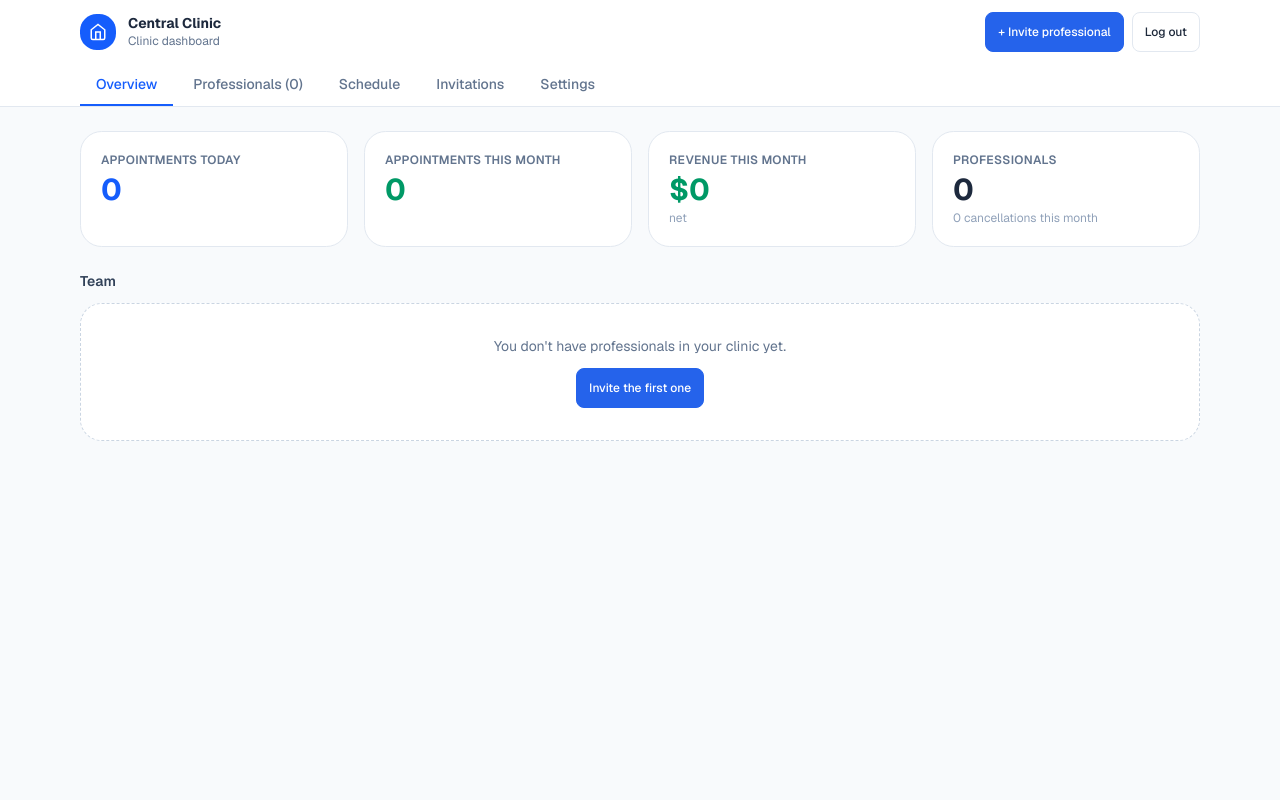
ClinicaDashboard › validates and submits the invite modal with English feedback
The width and height of the screenshot is (1280, 800).
Expected: the text "Clinic dashboard" is shown, [128,33,221,49]
Click the button "+ Invite professional". click: (1054, 32)
box: [985,12,1124,52]
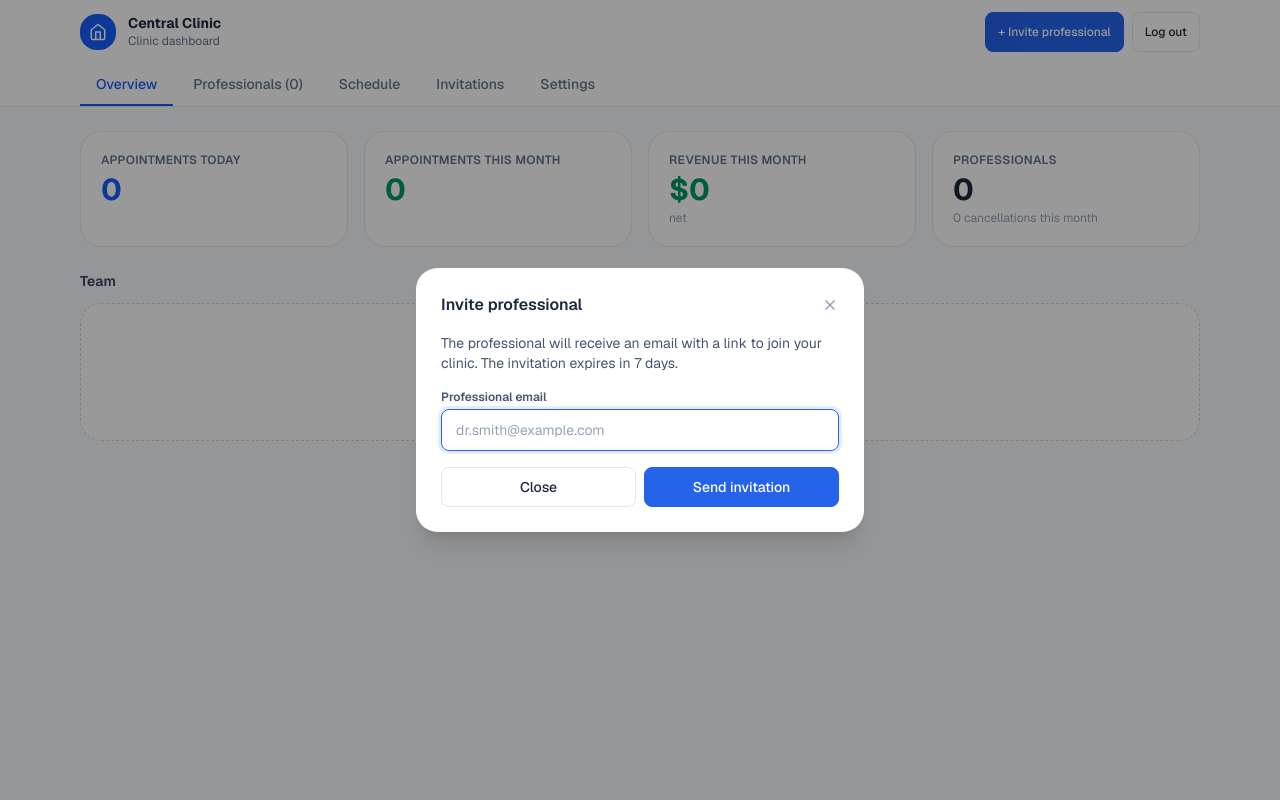
Expected: the heading "Invite professional" is shown, [441,293,582,317]
Expected: the text "The professional will receive an email" is shown, [441,334,822,372]
Click the button "Send invitation". click: (742, 487)
box: [644,467,839,507]
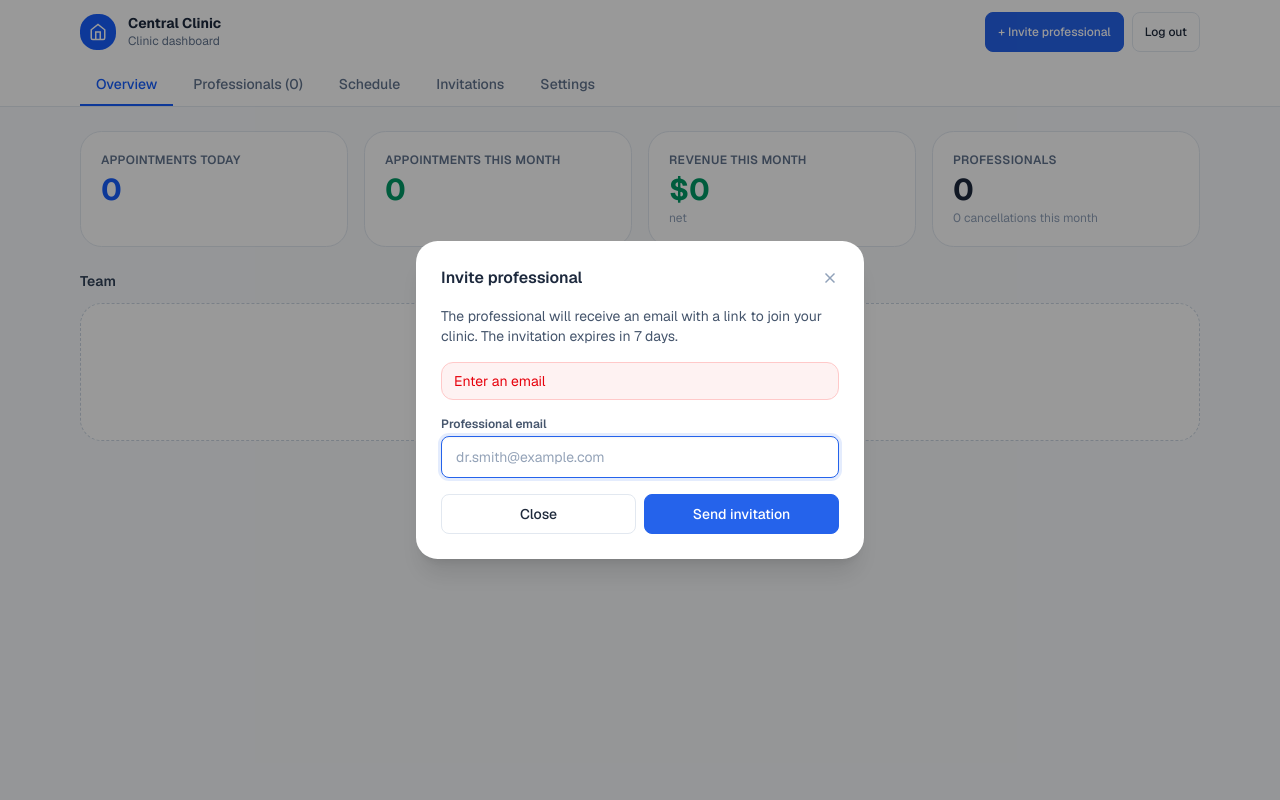
Expected: the text "Enter an email" is shown, [441,362,839,400]
Type "newdoctor@example.com" into the field with placeholder "dr.smith@example.com". click: (640, 457)
box: [441,436,839,478]
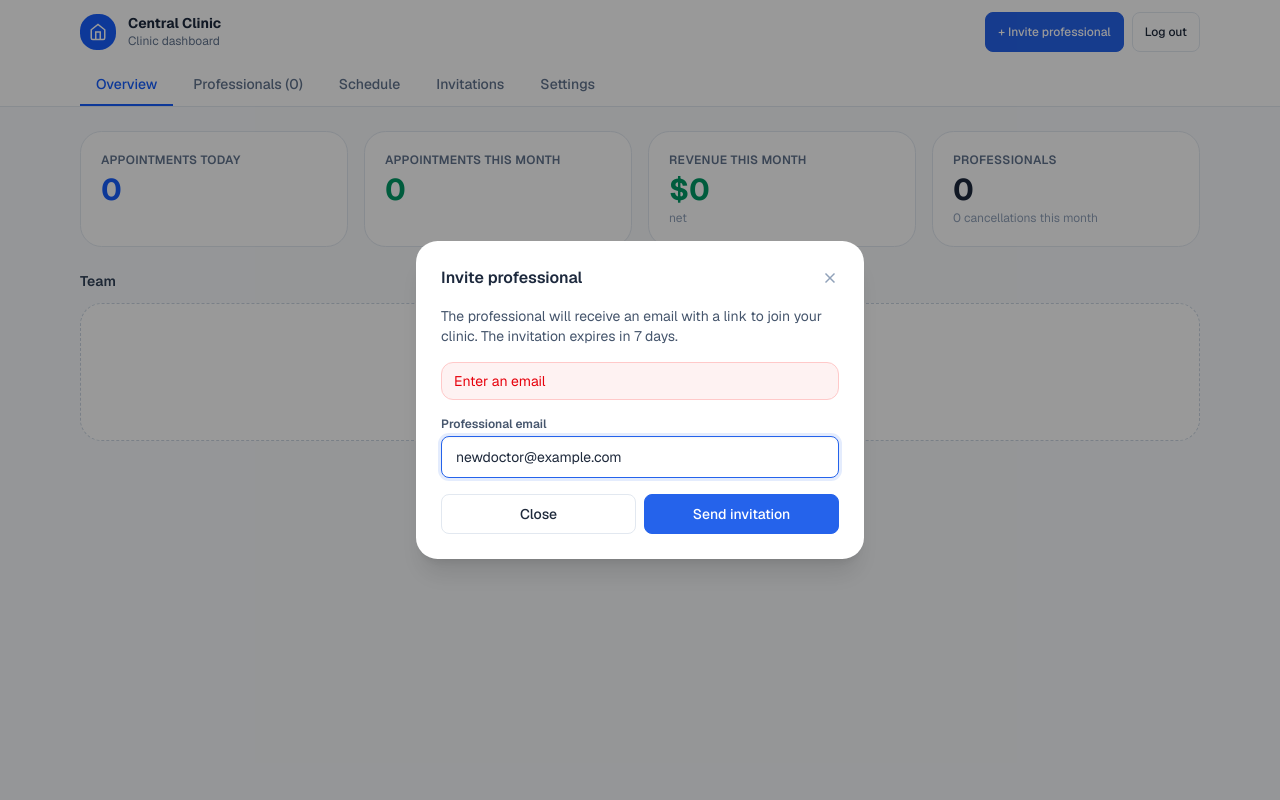
Click the button "Send invitation". click: (742, 514)
box: [644,494,839,534]
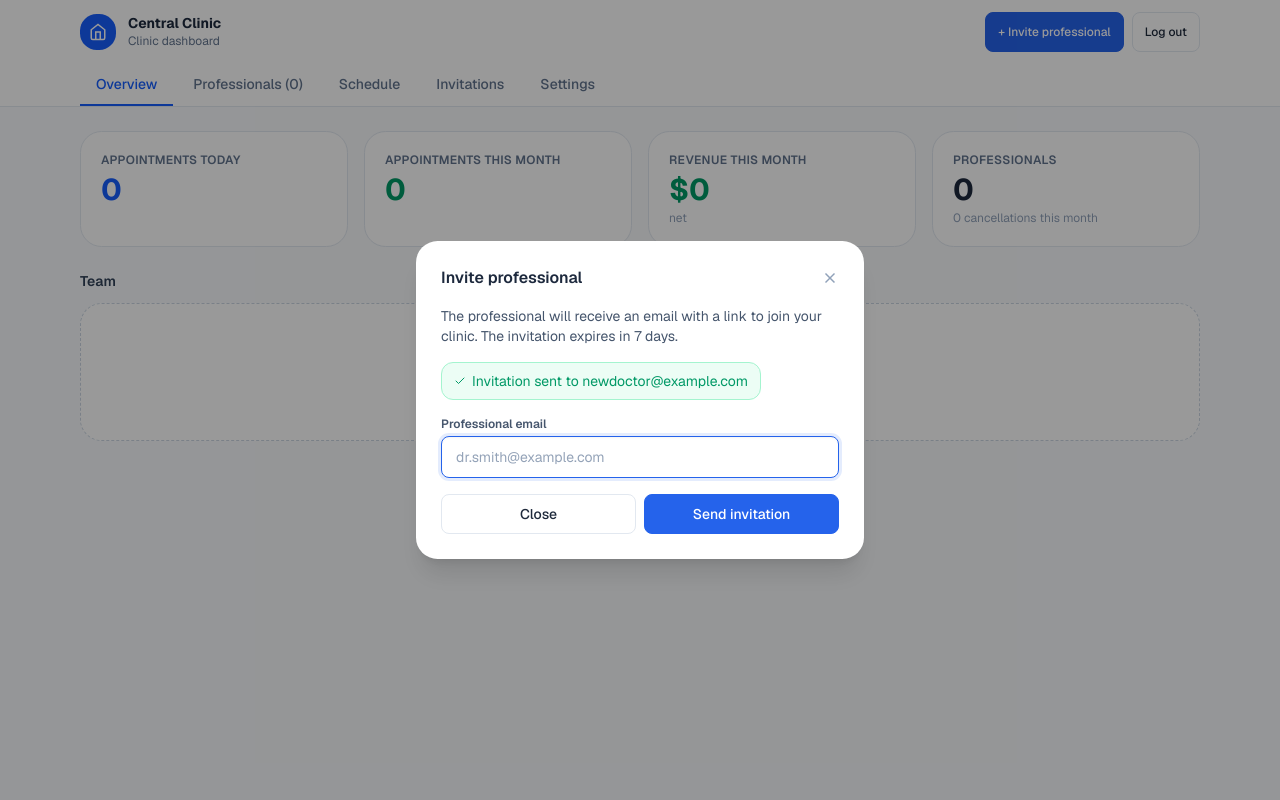
Expected: the text "Invitation sent to newdoctor@example.com" is shown, [441,362,761,400]
Type "other@example.com" into the field with placeholder "dr.smith@example.com". click: (640, 457)
box: [441,436,839,478]
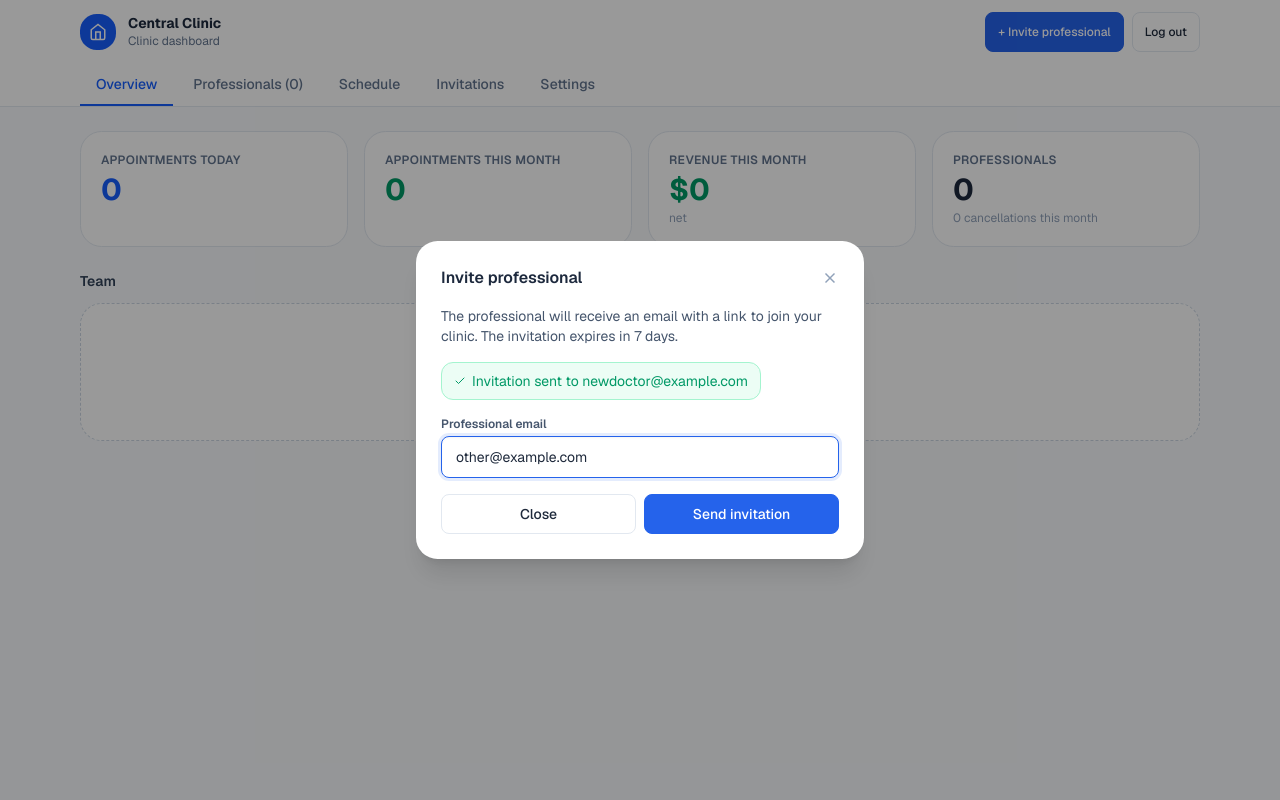
Click the button "Send invitation". click: (742, 514)
box: [644,494,839,534]
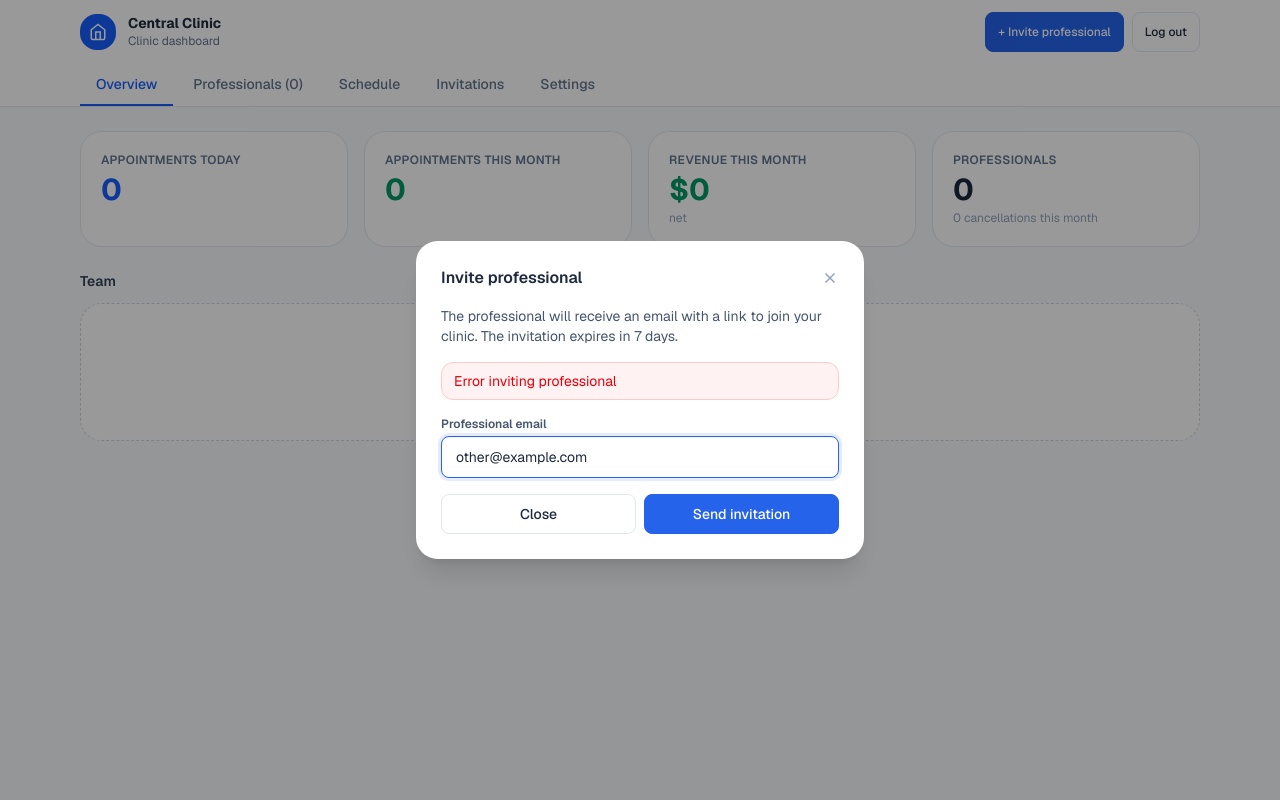
Expected: the text "Error inviting professional" is shown, [441,362,839,400]
